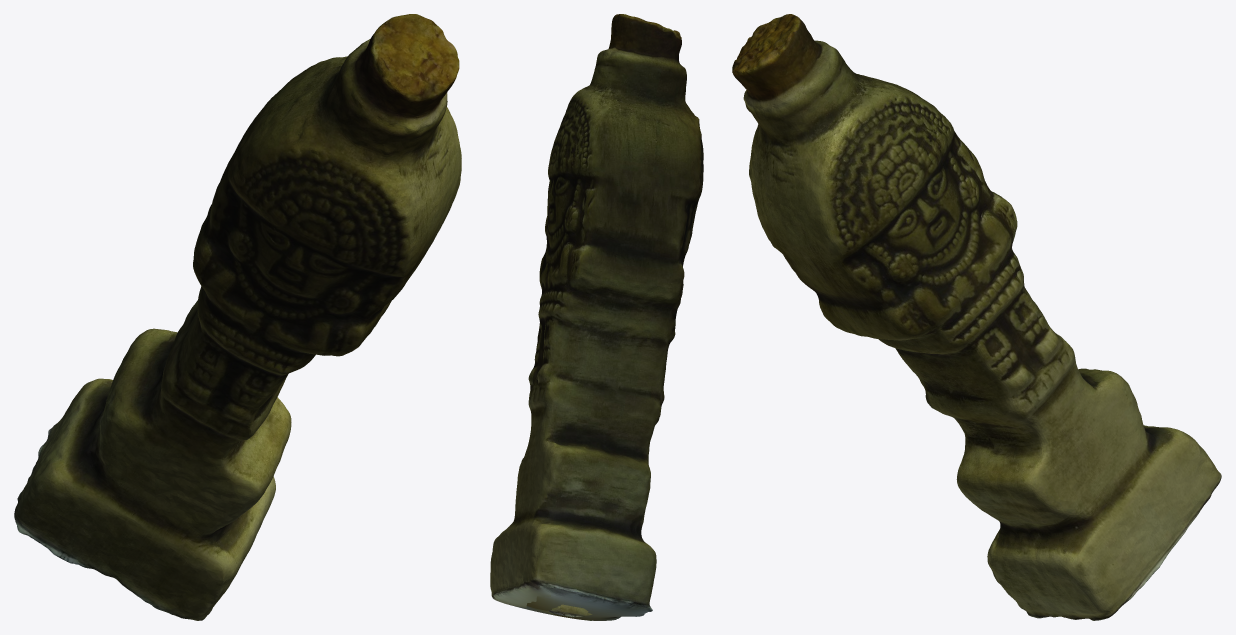
File: botella1.obj
3 renders of one model, left to right at view 1: azimuth 30°, elevation 25°; view 2: azimuth 150°, elevation 25°; view 3: azimuth 270°, elevation 25°, orthographic. The views are drawn at different scales.
Bounding box in the file's own units: 1.67 × 3.83 × 2.71.
Materials: 1 (1 with a texture image).
